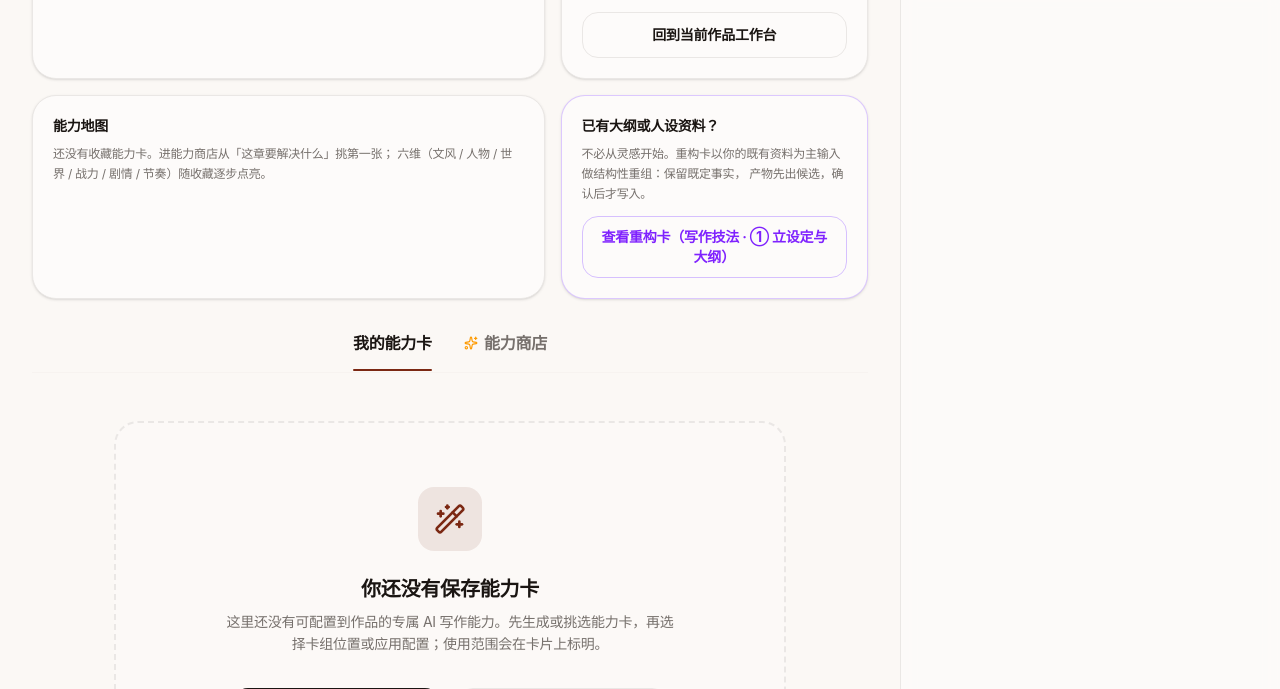
it: Plan 158 capability center › marks paid packages as gated when monetization is enabled
The image size is (1280, 689).
(page scrolled)
Click the button "能力商店": (505, 350) [464,330,547,370]
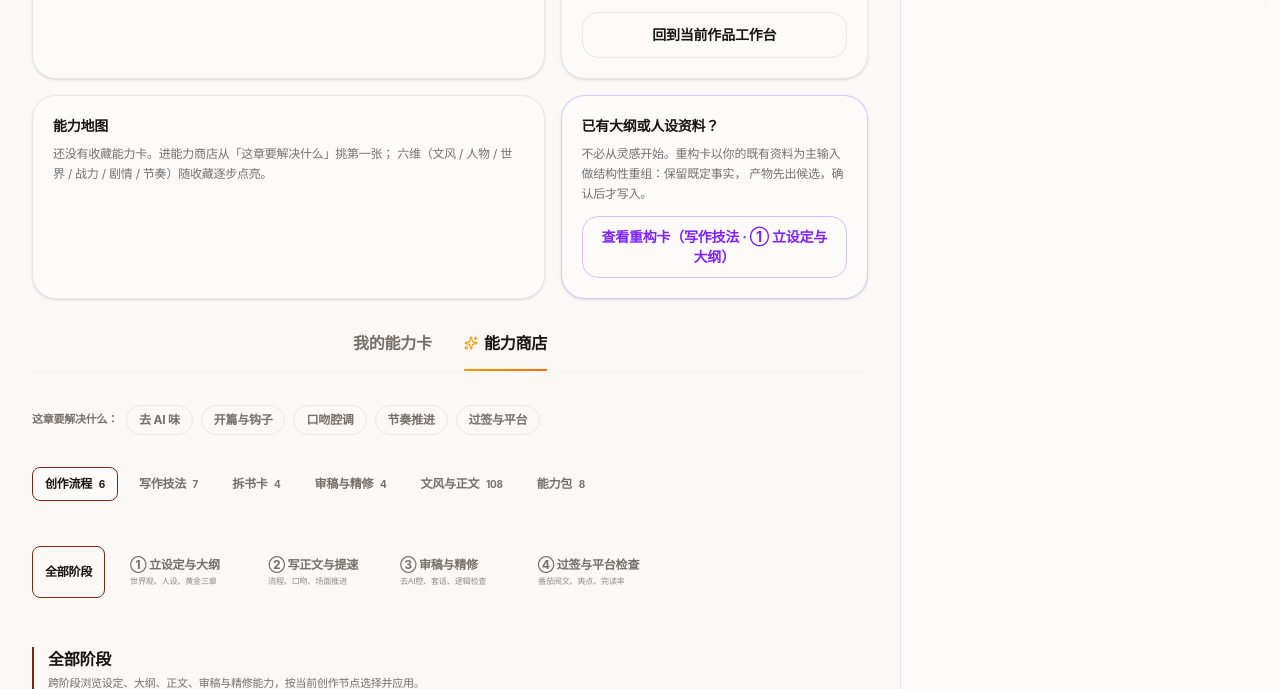
Check: the tab "能力包 8" is shown
Click the tab "能力包 8": (561, 484) [524,466,598,500]
(page scrolled)
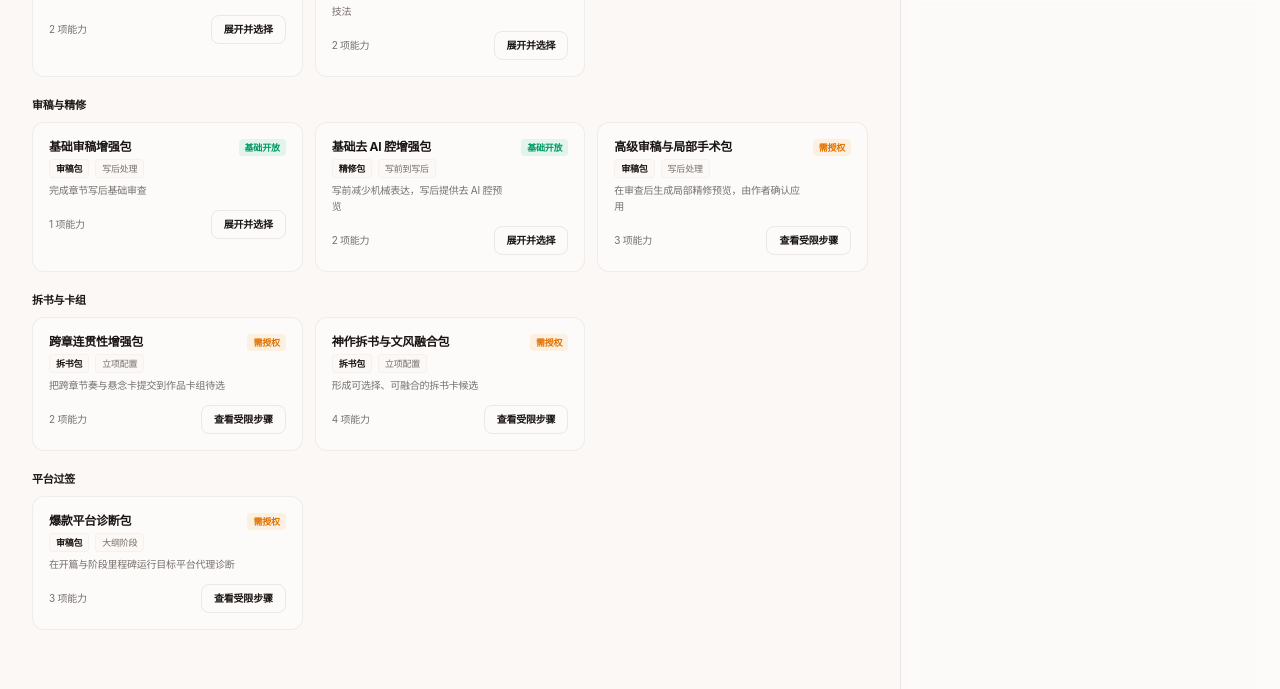
Check: the text "需授权" next to "高级审稿与局部手术包" is shown, box [819,142,845,152]
Check: the button "查看受限步骤" below "把跨章节奏与悬念卡提交到作品卡组待选" is shown
Click the button "查看受限步骤" below "把跨章节奏与悬念卡提交到作品卡组待选": (243, 420) [201,405,286,434]
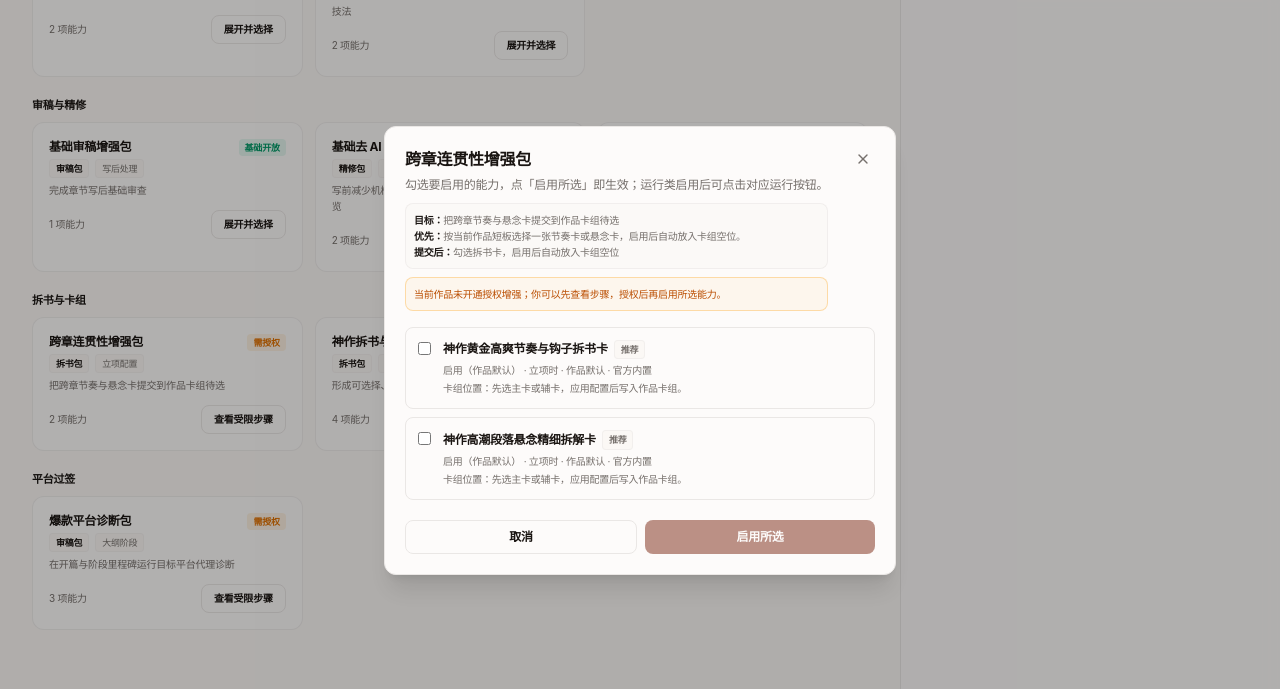
Check: the text "当前作品未开通授权增强；你可以先查看步骤，授权后再启用所选能力。" is shown, box [405,276,828,310]
Click the checkbox named "选择 神作黄金高爽节奏与钩子拆书卡": (424, 348) [418,342,431,354]
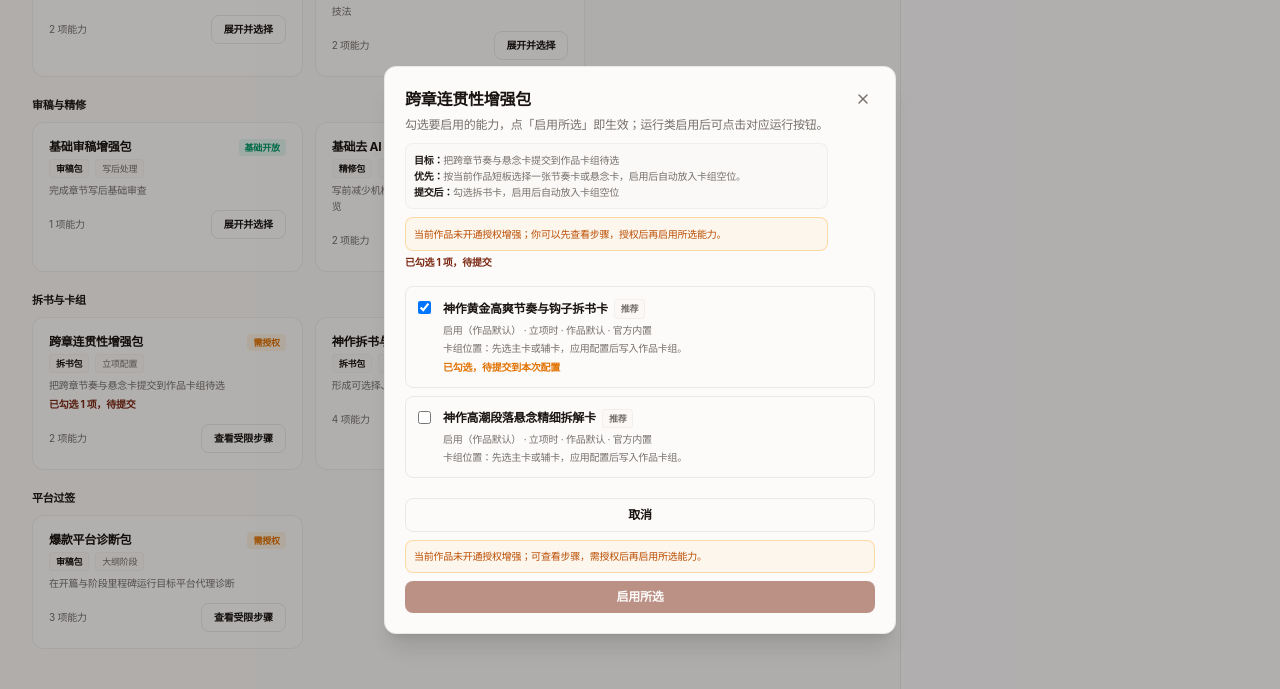
Check: the checkbox named "选择 神作黄金高爽节奏与钩子拆书卡" is checked, box [418,301,431,314]
Check: the button "启用所选" is disabled, box [405,581,875,613]
Check: the text "当前作品未开通授权增强；可查看步骤，需授权后再启用所选能力。" is shown, box [414,550,707,562]
